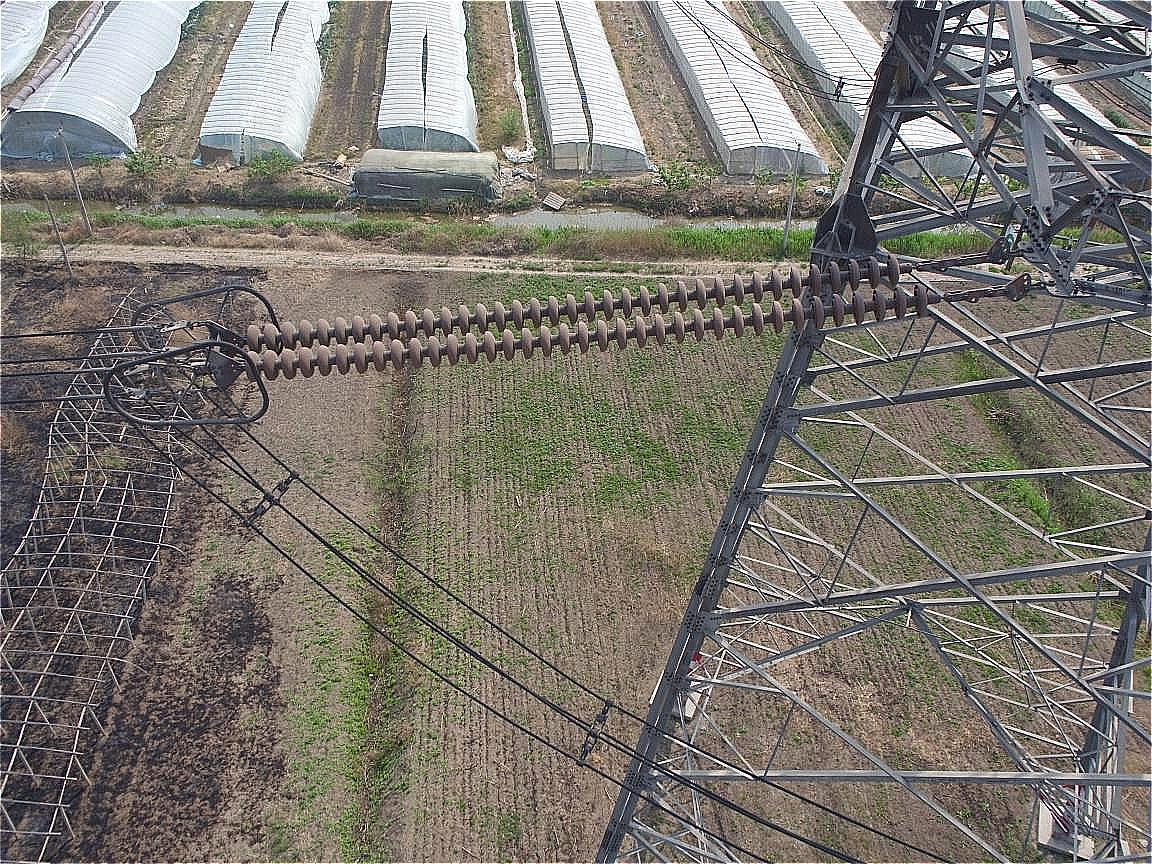insultor1: (208, 251, 935, 388)
